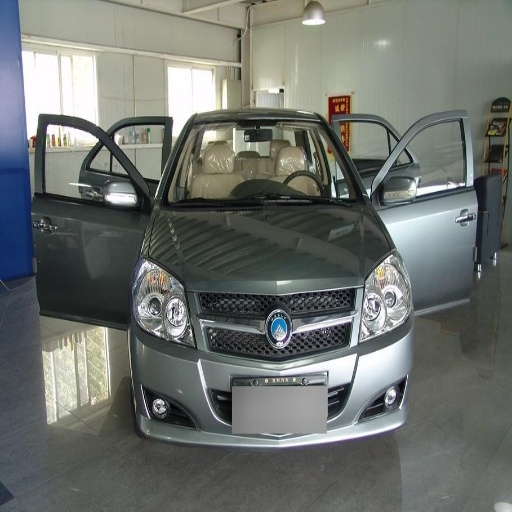front_bumper: (130, 286, 412, 449)
front_right_light: (133, 257, 194, 346)
hood: (151, 204, 390, 296)
